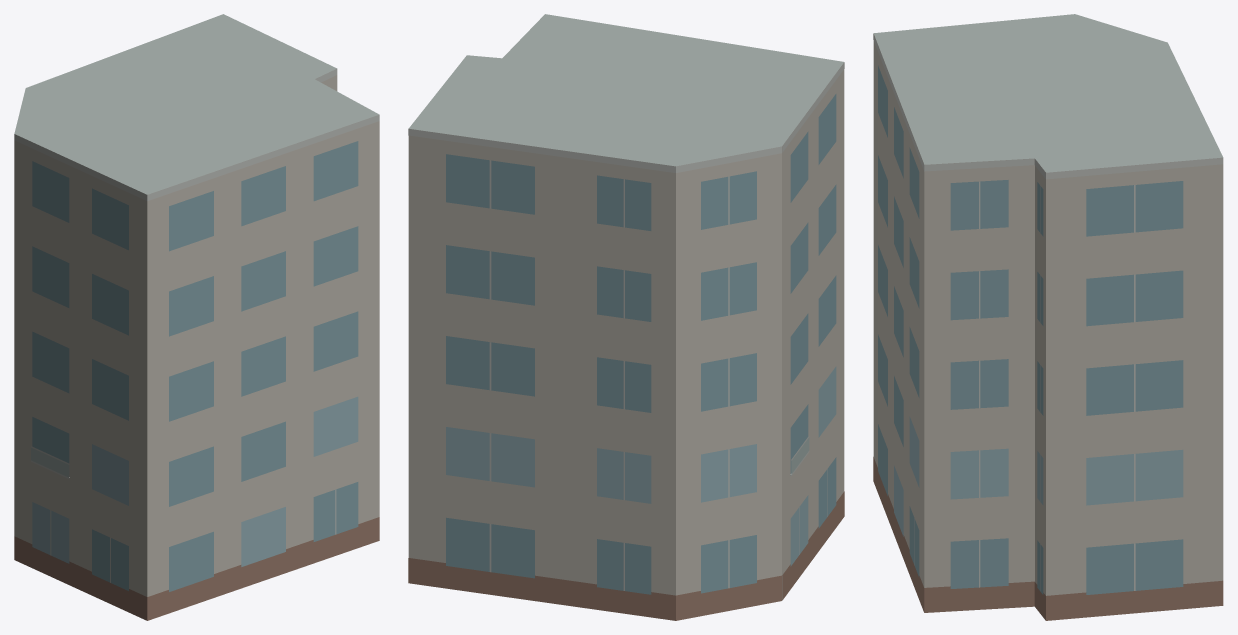
File: survey-upis-32894542.glb
3 renders of one model, left to right at view 1: azimuth 30°, elevation 25°; view 2: azimuth 150°, elevation 25°; view 3: azimuth 270°, elevation 25°, orthographic. The views are drawn at different scales.
Parts seen in each view (by area): view 1: survey-upis-32894542.tmp; view 2: survey-upis-32894542.tmp; view 3: survey-upis-32894542.tmp.
Part boxes in pixels (x1,y1,x2,y2): survey-upis-32894542.tmp: (14,14,379,620); survey-upis-32894542.tmp: (408,14,844,620); survey-upis-32894542.tmp: (873,14,1223,620).
Size of the model in its own units: 12.39 by 16.3 by 11.54.
